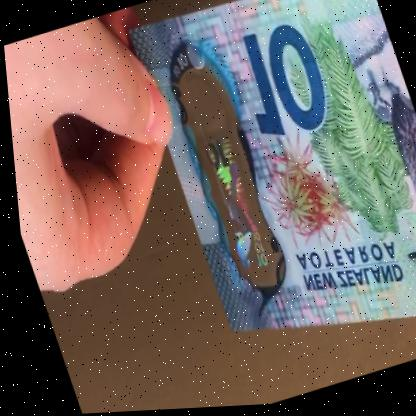10F: (180, 91, 275, 287)
